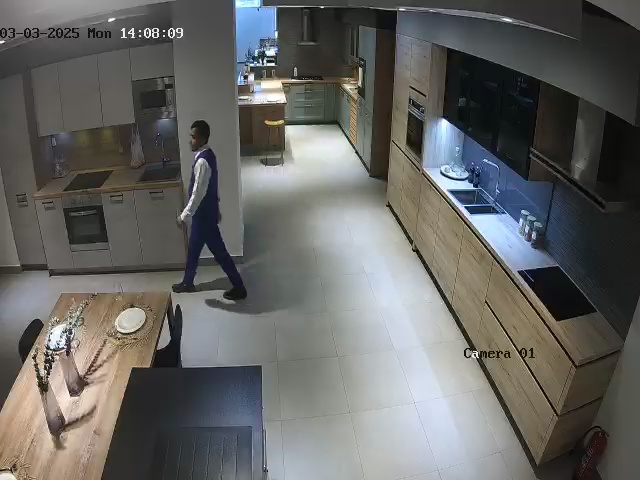employee: (172, 120, 248, 301)
